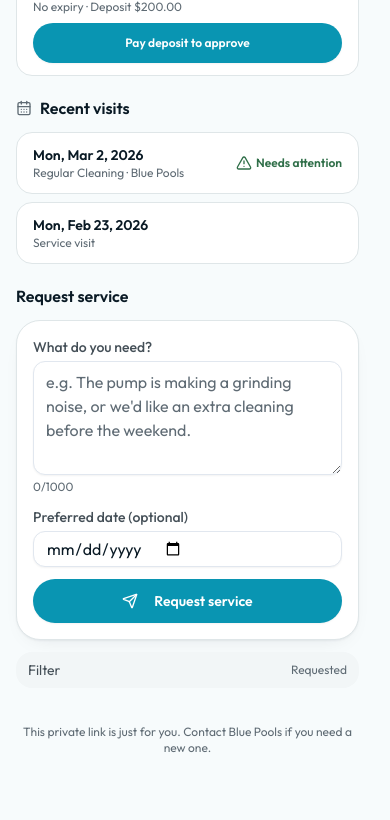
CustomerPortalPage › submits a service request with the token
(page scrolled)
Replace the text in the text box labelled "What do you need?" with "Pump is grinding" at (188, 418), box [33, 361, 342, 475]
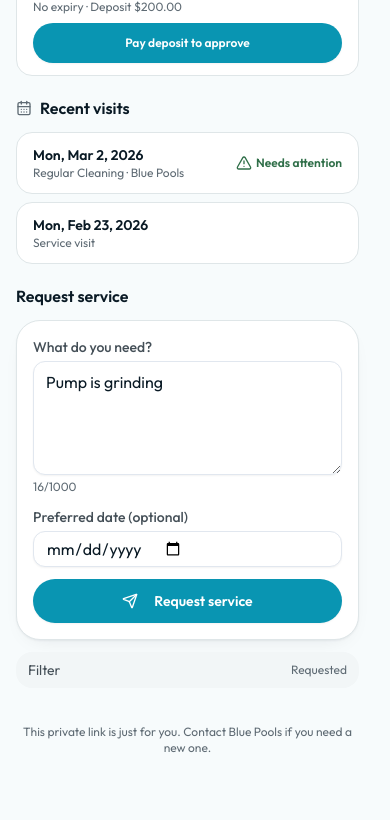
Type "2030-01-15" into the date field labelled "Preferred date (optional)" at (188, 549), box [33, 531, 342, 567]
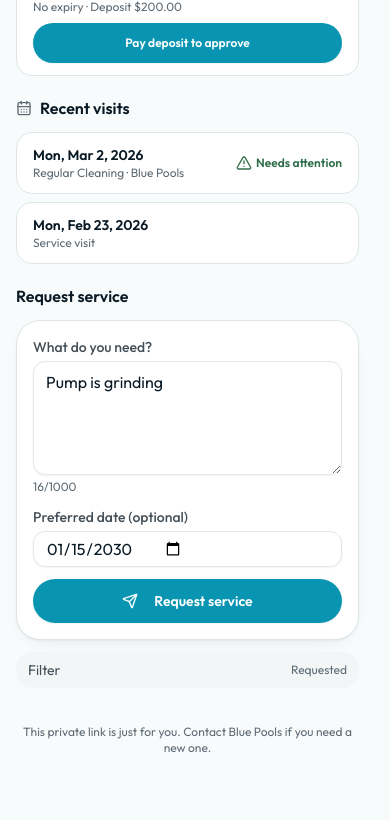
Click the button "Request service" at (188, 601), box [33, 579, 342, 623]
(page scrolled)
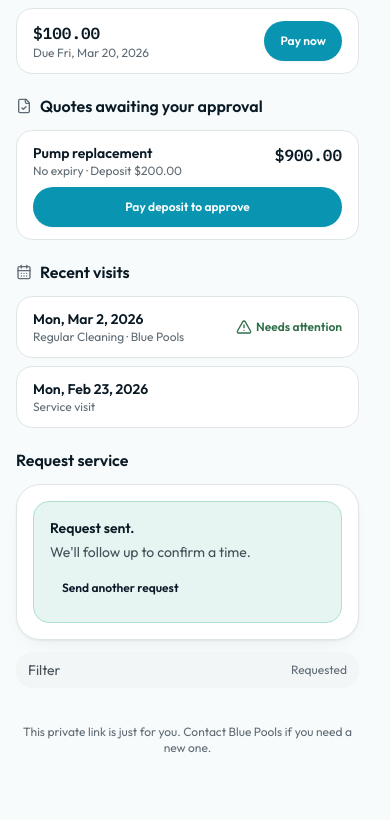
Expected: the text "Request sent." is shown, [50, 519, 134, 537]
